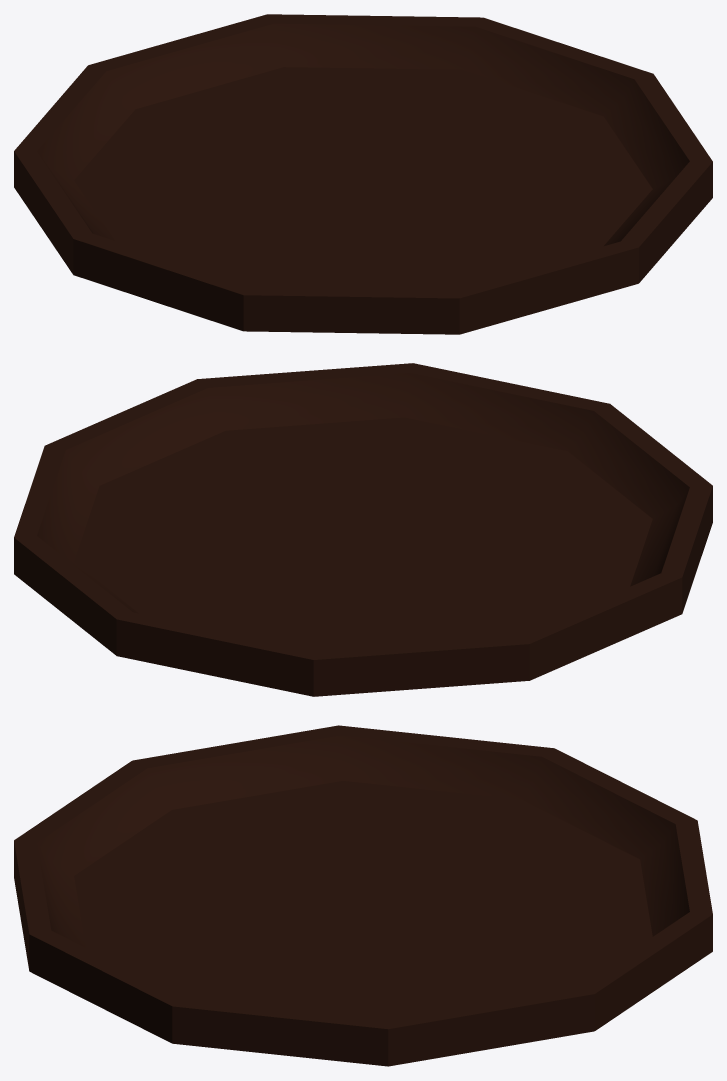
The model's file is Piatto 2.fbx.
The picture shows the model from 3 angles, top to bottom: view 1: azimuth 30°, elevation 25°; view 2: azimuth 150°, elevation 25°; view 3: azimuth 270°, elevation 25°; orthographic projection. The views are drawn at different scales.
Parts seen in each view (by area): view 1: Plate 2.001; view 2: Plate 2.001; view 3: Plate 2.001.
Part boxes in pixels (left/top/right/bottom): Plate 2.001: left=14, top=14, right=712, bottom=334; Plate 2.001: left=14, top=363, right=712, bottom=696; Plate 2.001: left=14, top=725, right=712, bottom=1066.
Size of the model in its own units: 77.61 by 4.45 by 75.47.
